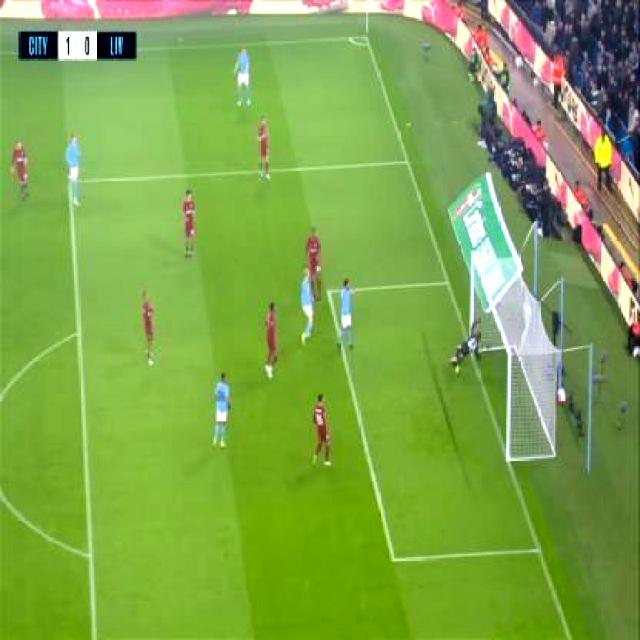bigarea_top_outter: (394, 140, 418, 183)
bottom_arc_area_intersection: (79, 538, 103, 577)
corner: (352, 28, 377, 54)
smallarea_bottom_inner: (382, 529, 408, 589)
smallarea_bottom_outter: (530, 530, 552, 572)
smallarea_top_inner: (321, 278, 337, 308)
smallarea_top_outter: (436, 263, 458, 305)
top_arc_area_intersection: (65, 314, 92, 355)
